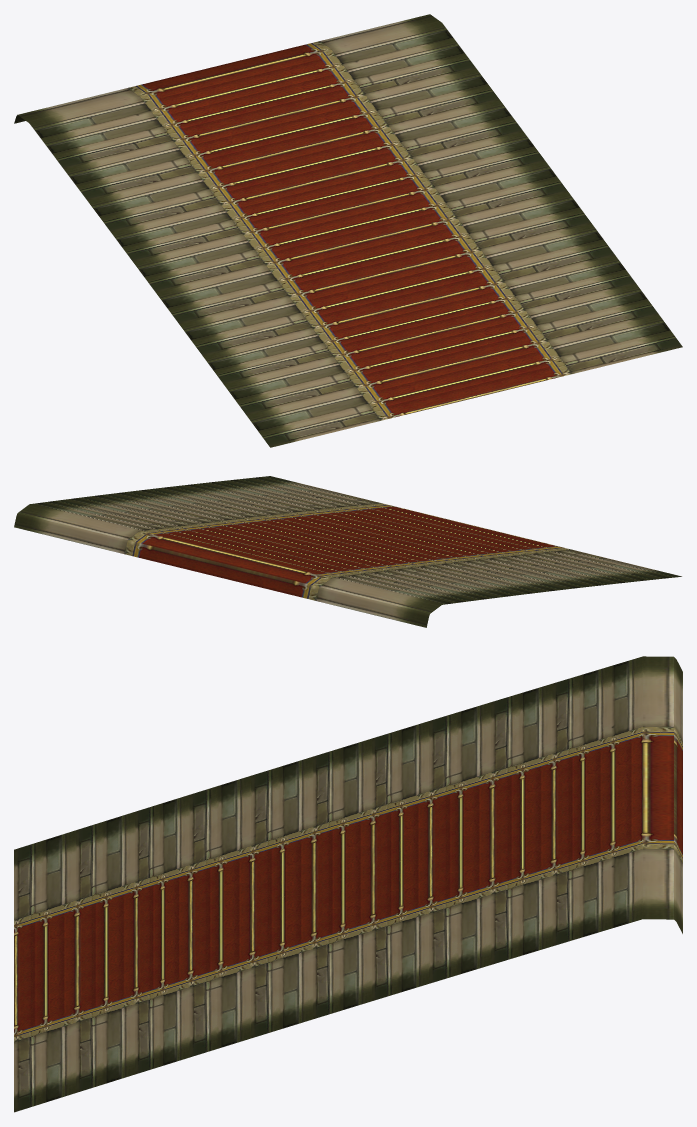
The model's file is DN_mcmbdstair.FBX.
The picture shows the model from 3 angles, top to bottom: view 1: azimuth 30°, elevation 25°; view 2: azimuth 150°, elevation 25°; view 3: azimuth 270°, elevation 25°; orthographic projection. The views are drawn at different scales.
Parts seen in each view (by area): view 1: DN_mcmbdstair; view 2: DN_mcmbdstair; view 3: DN_mcmbdstair.
Part boxes in pixels (x1,y1,x2,y2): DN_mcmbdstair: [14, 14, 682, 447]; DN_mcmbdstair: [14, 476, 681, 627]; DN_mcmbdstair: [14, 656, 682, 1112].
Bounding box in the file's own units: 1529 × 525 × 1646.
